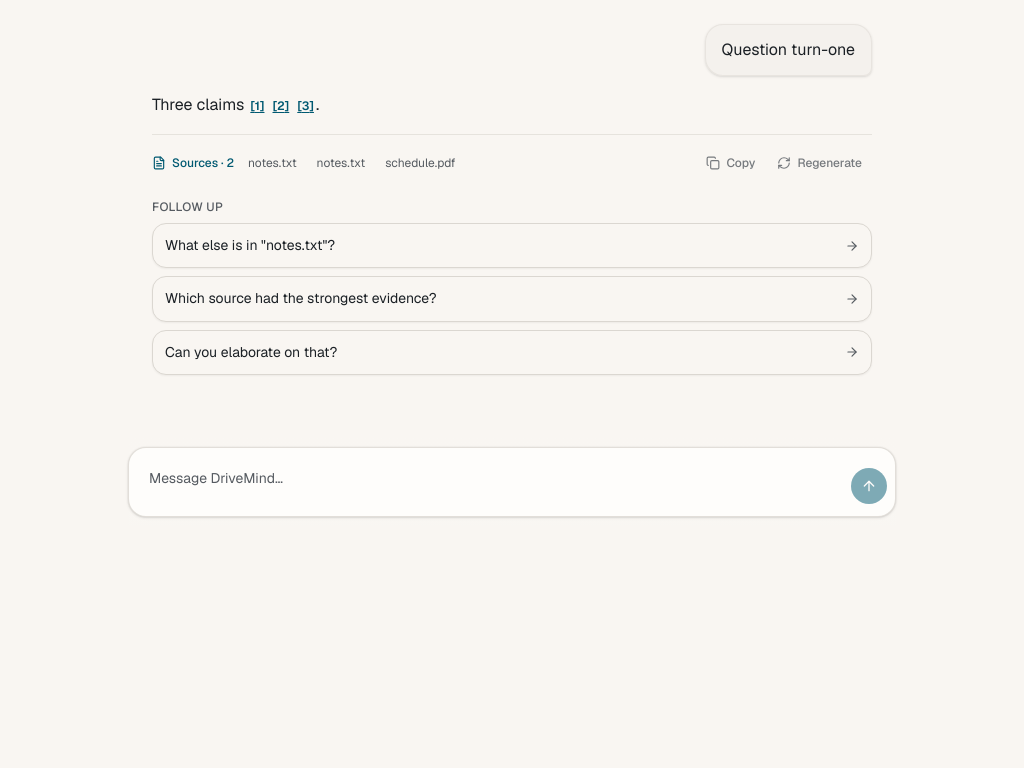
Test: answer-wide evidence › opens Sources with every cited passage while counting distinct cited files
Click the button "Sources · 2".
click(193, 163)  # box [152,155,234,171]
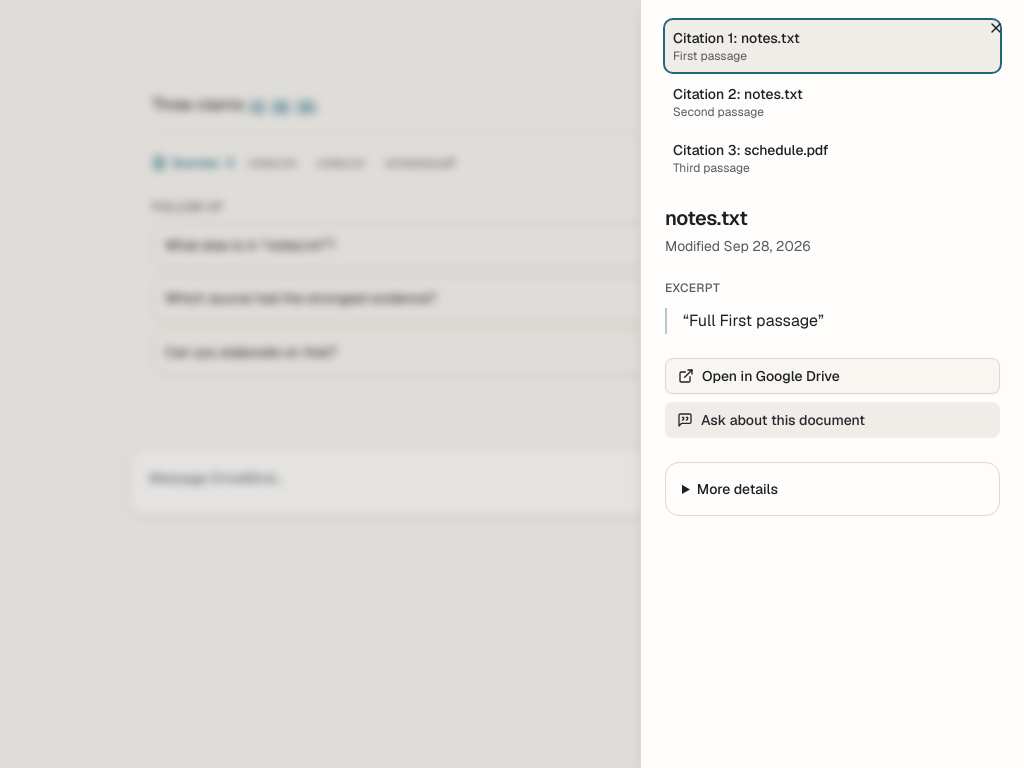
Check: the button "Citation 1: notes.txt First passage" is shown, box [665,20,1000,72]
Check: the button "Citation 2: notes.txt Second passage" is shown
Check: the button "Citation 3: schedule.pdf Third passage" is shown, box [665,132,1000,184]
Click the button "Citation 2: notes.txt Second passage".
click(700, 94)  # box [665,76,1000,128]
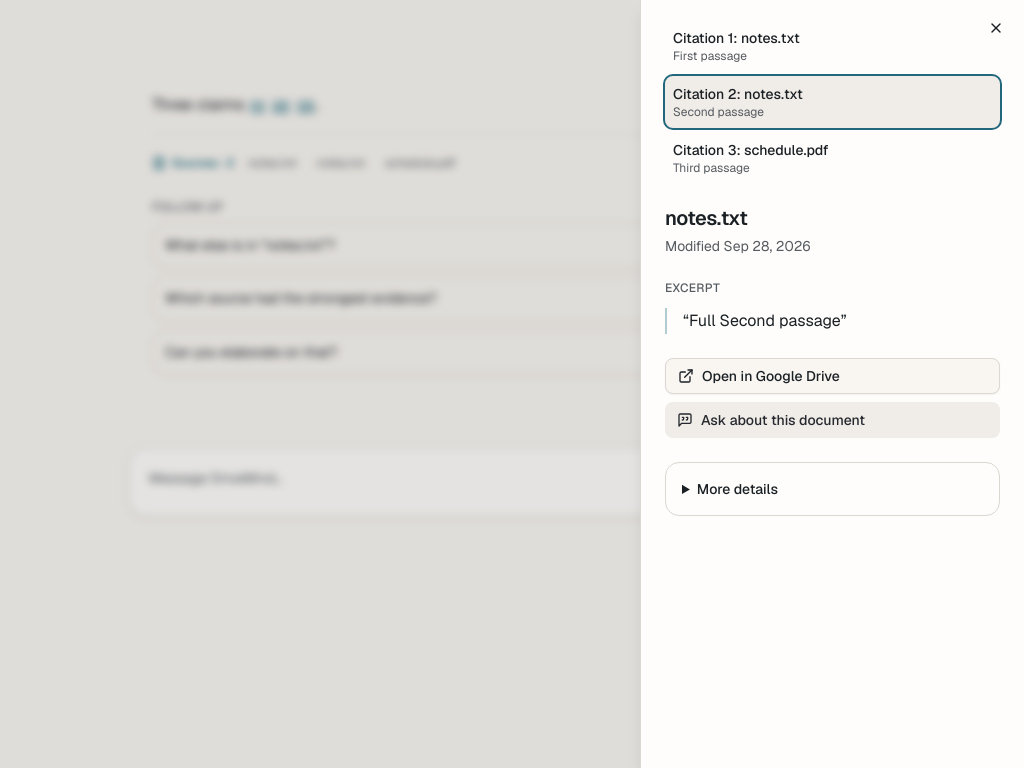
Check: the element named "Assistant answer" is shown, box [152,92,872,375]
Check: the text "“Full Second passage”" is shown, box [665,308,1000,334]
